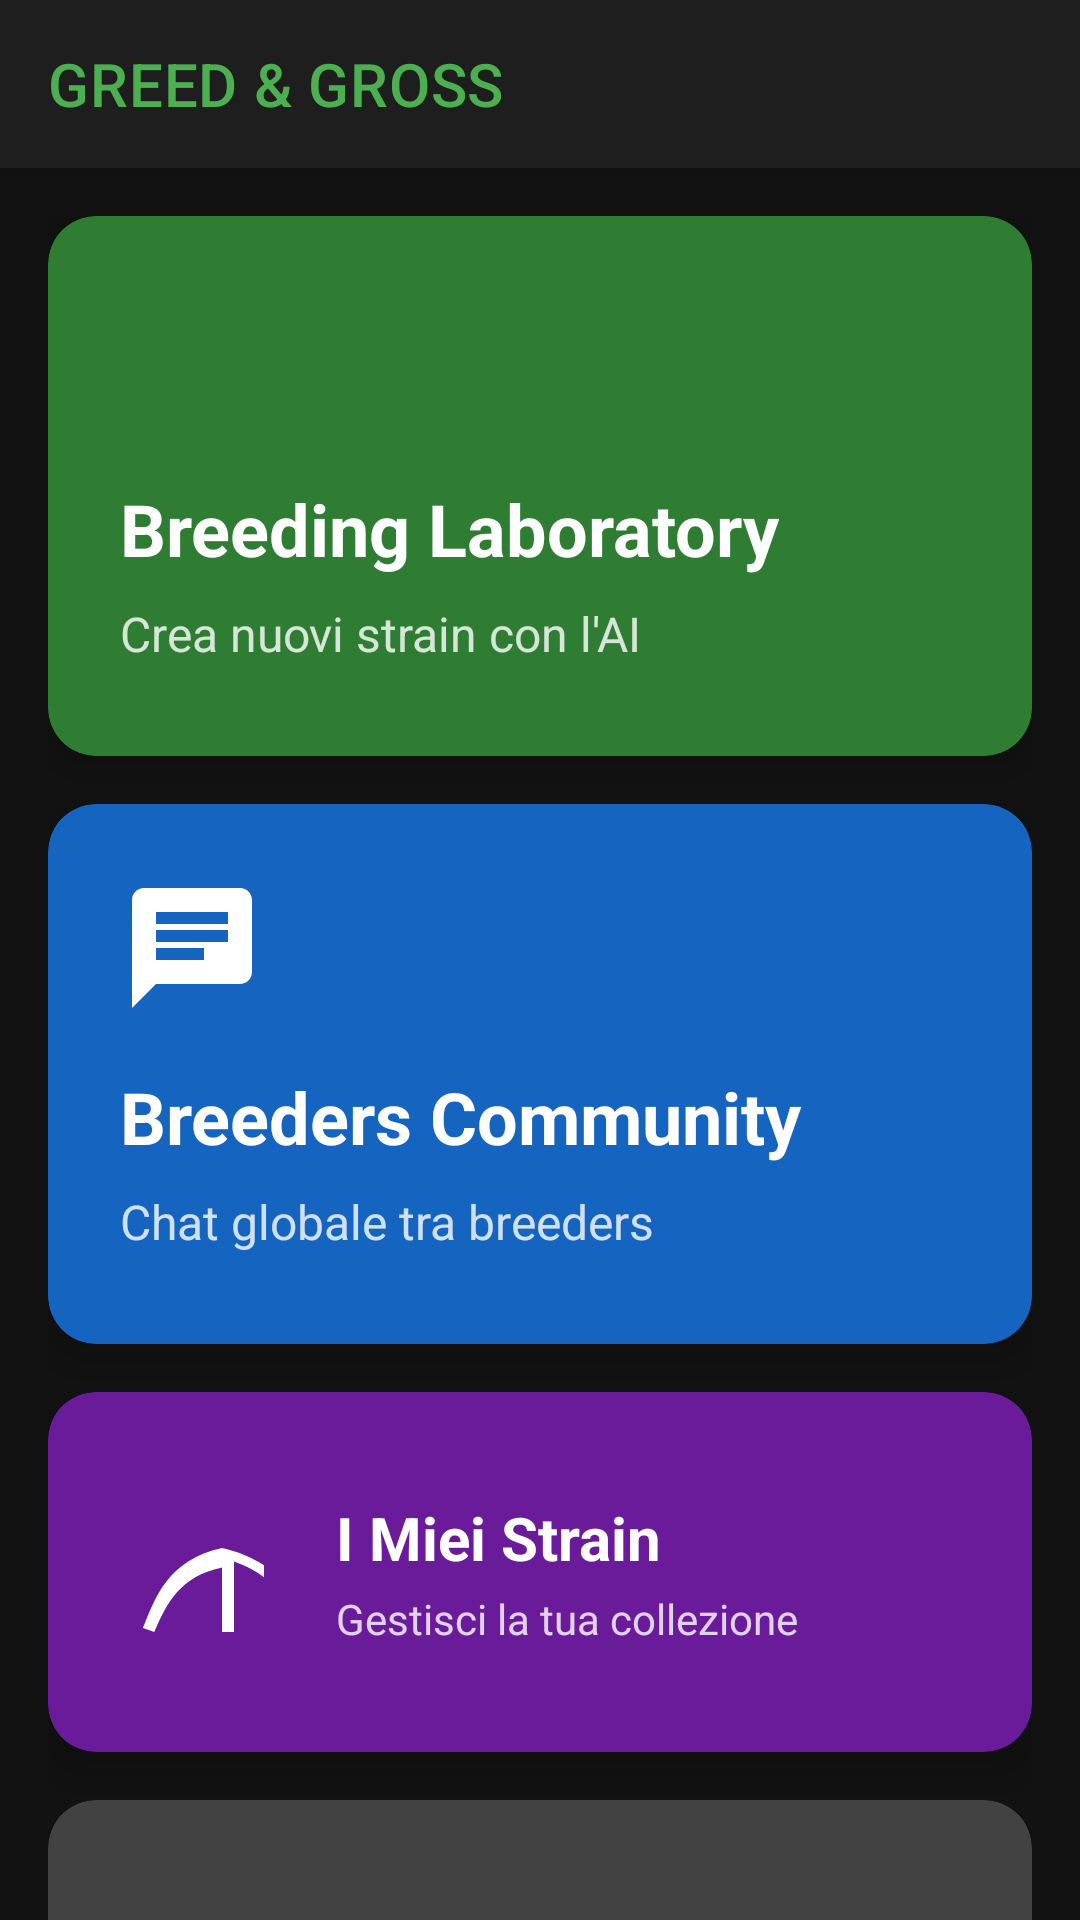

Icon click points for this 1080x1920 phone screenshot, format (x=x, y=y):
chat: (x=192, y=948)
